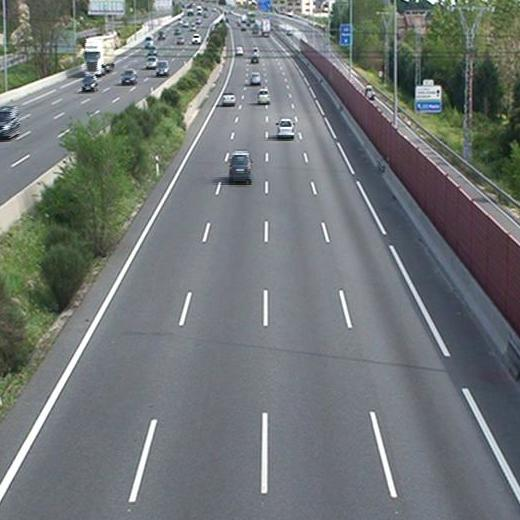car: (227, 151, 252, 182), (276, 119, 295, 140), (220, 92, 237, 105), (256, 89, 271, 103), (250, 70, 263, 85)
